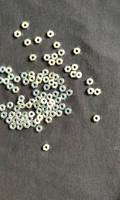nut: (58, 49, 65, 57), (87, 78, 94, 86), (36, 125, 43, 133), (22, 22, 29, 29), (14, 31, 21, 38), (47, 31, 54, 38), (54, 42, 61, 49), (74, 48, 81, 55), (44, 54, 51, 61), (30, 54, 37, 61), (49, 59, 56, 66), (56, 58, 63, 65), (65, 66, 72, 73), (72, 64, 79, 71), (70, 71, 77, 78), (76, 72, 83, 79), (88, 88, 95, 95), (14, 76, 21, 83), (21, 72, 28, 79), (3, 78, 10, 85), (23, 78, 30, 85), (29, 75, 36, 82), (42, 69, 49, 76), (36, 77, 43, 84), (32, 82, 39, 89), (43, 76, 50, 83), (53, 74, 60, 81), (58, 78, 65, 85), (48, 79, 55, 86), (44, 84, 51, 91), (66, 90, 73, 97), (33, 90, 40, 97), (40, 92, 47, 99), (55, 97, 62, 104), (7, 102, 14, 109), (49, 99, 56, 106), (65, 108, 72, 115), (56, 110, 63, 117), (37, 115, 44, 122), (34, 118, 41, 125), (28, 111, 35, 118), (6, 117, 13, 124), (16, 119, 23, 126), (10, 123, 17, 130), (43, 144, 50, 151), (59, 86, 67, 92), (17, 100, 25, 106), (13, 106, 21, 112), (25, 39, 31, 46), (35, 37, 42, 43), (52, 53, 58, 60), (95, 89, 101, 96), (94, 116, 101, 122), (0, 66, 6, 73), (6, 67, 12, 74), (8, 74, 15, 80), (28, 71, 35, 77), (7, 83, 13, 90), (12, 87, 19, 93), (37, 73, 44, 79), (49, 72, 55, 79), (52, 82, 58, 89), (47, 94, 53, 101), (53, 91, 59, 98), (60, 94, 67, 100), (35, 96, 41, 103), (0, 105, 6, 112), (26, 102, 32, 109), (41, 99, 48, 105), (34, 103, 41, 109), (59, 104, 66, 110), (42, 106, 48, 113), (46, 106, 52, 113), (50, 111, 56, 118), (36, 109, 43, 115), (46, 117, 52, 124), (15, 112, 22, 118), (9, 112, 16, 118), (1, 112, 7, 119), (21, 115, 28, 121), (31, 121, 37, 128), (23, 122, 30, 128), (29, 99, 35, 105), (47, 102, 53, 108), (39, 102, 45, 108), (53, 105, 59, 111), (43, 112, 49, 118), (22, 112, 28, 118), (27, 116, 33, 122), (20, 118, 26, 124), (13, 118, 19, 124), (17, 124, 23, 130), (18, 96, 25, 101), (19, 104, 26, 109), (0, 77, 4, 84)
